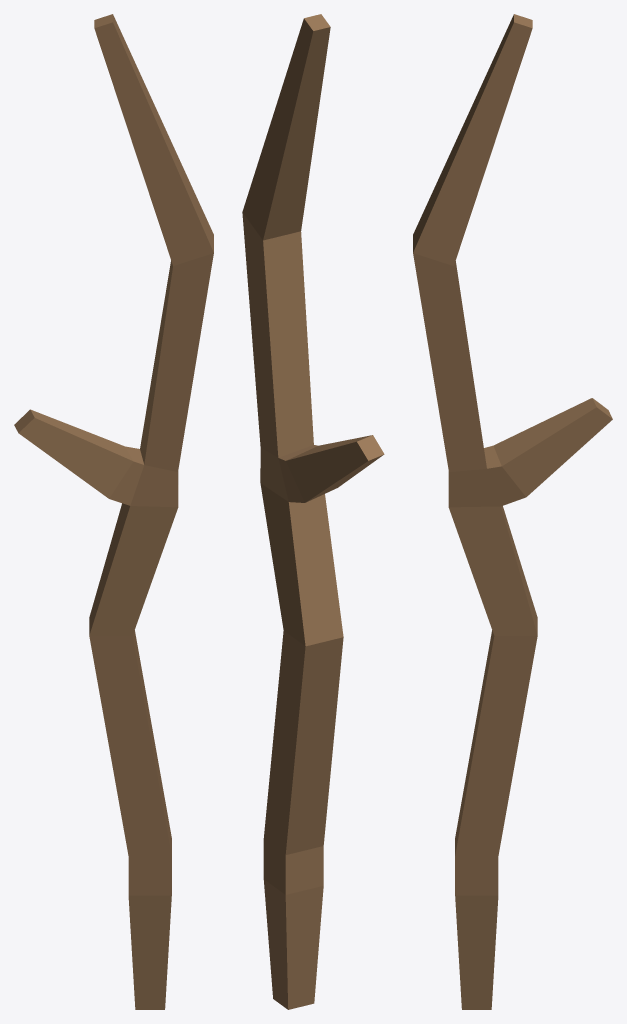
File: stick.glb
3 views of the same model, side by side, from view 1: azimuth 90°, elevation 25°; view 2: azimuth 210°, elevation 25°; view 3: azimuth 270°, elevation 25° (orthographic).
Visible parts, largest first — view 1: Cube; view 2: Cube; view 3: Cube.
Part boxes in pixels (<box>): Cube: <box>14,14,213,1009</box>; Cube: <box>242,14,384,1009</box>; Cube: <box>413,14,612,1009</box>.
Size of the model in its own units: 0.2561 by 5.45 by 1.
